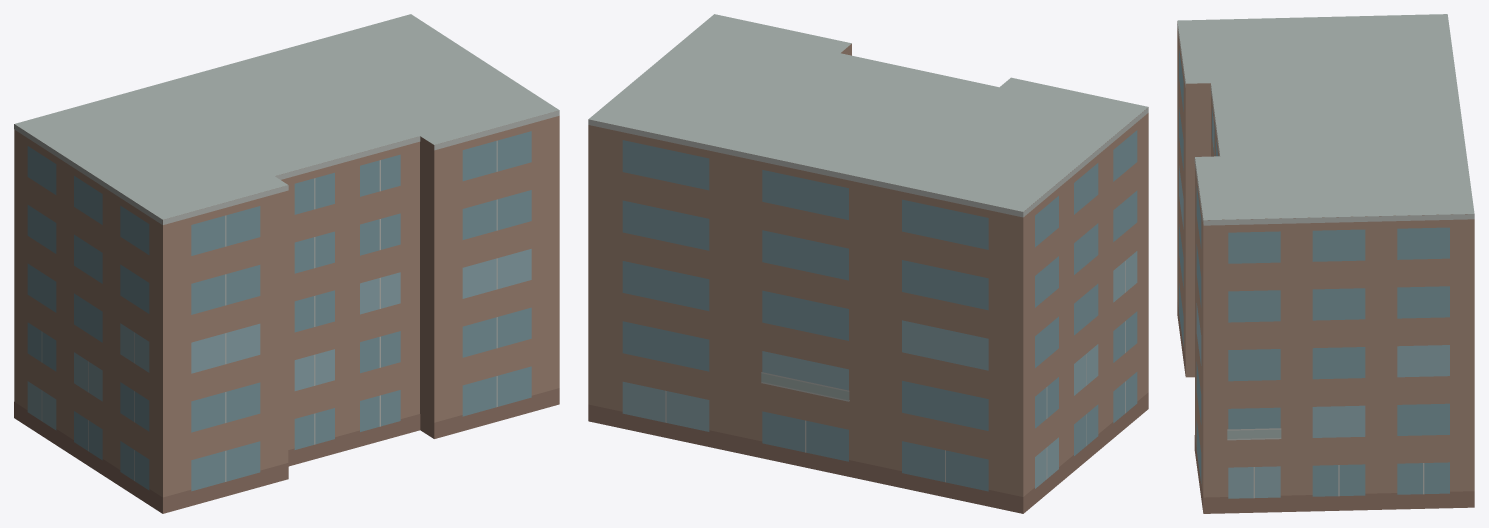
The model's file is survey-upis-33023079.glb.
The picture shows the model from 3 angles, left to right: view 1: azimuth 30°, elevation 25°; view 2: azimuth 150°, elevation 25°; view 3: azimuth 270°, elevation 25°; orthographic projection. The views are drawn at different scales.
Visible parts, largest first — view 1: survey-upis-33023079.tmp; view 2: survey-upis-33023079.tmp; view 3: survey-upis-33023079.tmp.
Boxes of the visible parts, bbox=[...] form: survey-upis-33023079.tmp: bbox=[14, 14, 559, 513]; survey-upis-33023079.tmp: bbox=[588, 14, 1148, 513]; survey-upis-33023079.tmp: bbox=[1177, 14, 1474, 513].
Size of the model in its own units: 19.89 by 13.2 by 12.12.
